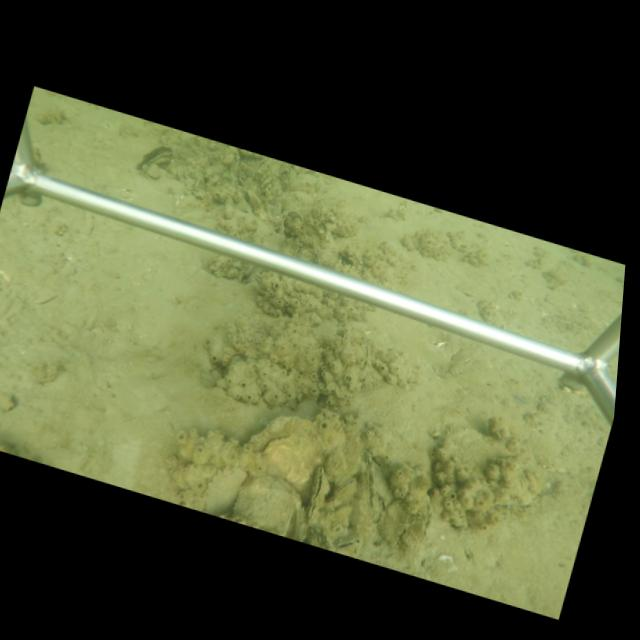Oyster-Closed: (304, 465, 331, 522), (356, 448, 377, 520), (334, 478, 357, 504)
Oyster-Indeterminate: (438, 426, 547, 512), (242, 414, 326, 494), (230, 471, 308, 541)
Oyster-Open: (136, 144, 175, 172)
